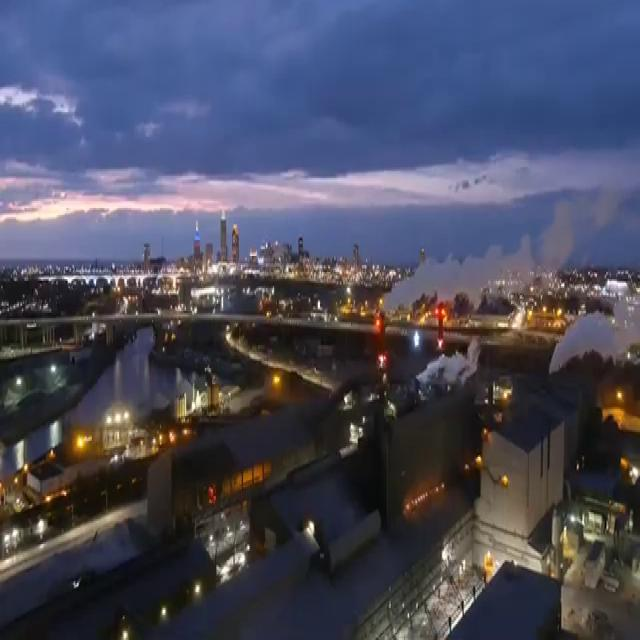smoke: (387, 206, 564, 311), (548, 315, 632, 373), (418, 336, 480, 398)
